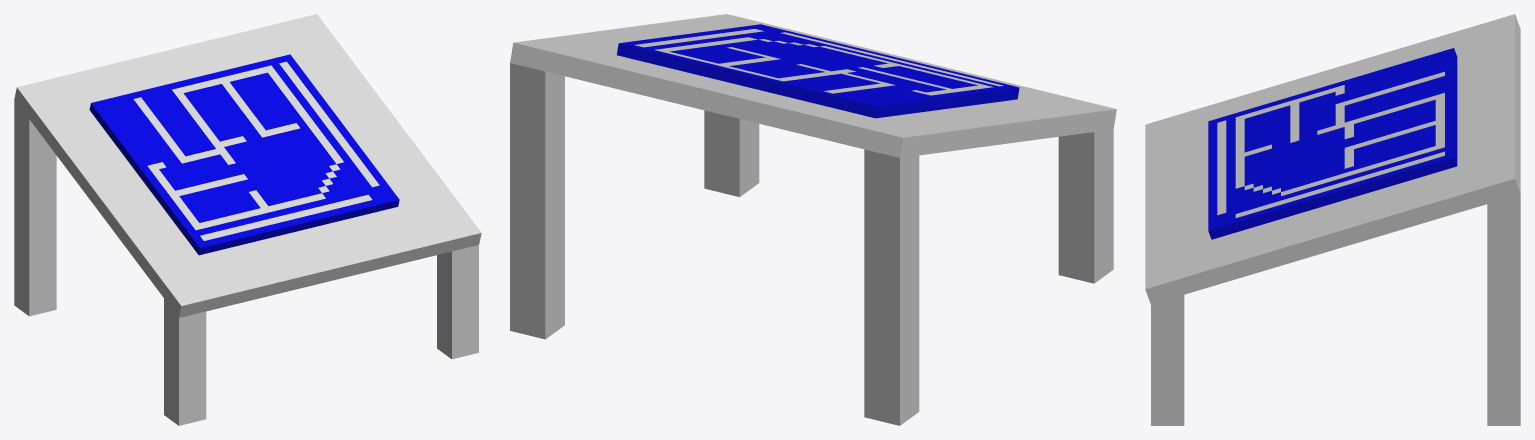
Rendered from Tekentafel.glb.
3 renders of one model, left to right at view 1: azimuth 30°, elevation 25°; view 2: azimuth 150°, elevation 25°; view 3: azimuth 270°, elevation 25°, orthographic. The views are drawn at different scales.
Parts seen in each view (by area): view 1: Cube.029, Cube.030, Cube.031; view 2: Cube.029, Cube.030, Cube.031; view 3: Cube.029, Cube.030, Cube.031.
Boxes of the visible parts, bbox=[...] form: Cube.029: bbox=[14, 14, 481, 425]; Cube.030: bbox=[89, 54, 399, 255]; Cube.031: bbox=[133, 61, 379, 240]; Cube.029: bbox=[510, 14, 1116, 425]; Cube.030: bbox=[617, 24, 1019, 118]; Cube.031: bbox=[634, 29, 1003, 95]; Cube.029: bbox=[1145, 14, 1520, 425]; Cube.030: bbox=[1208, 48, 1457, 239]; Cube.031: bbox=[1217, 71, 1444, 217].
Size of the model in its own units: 2 by 1.4 by 1.93.
